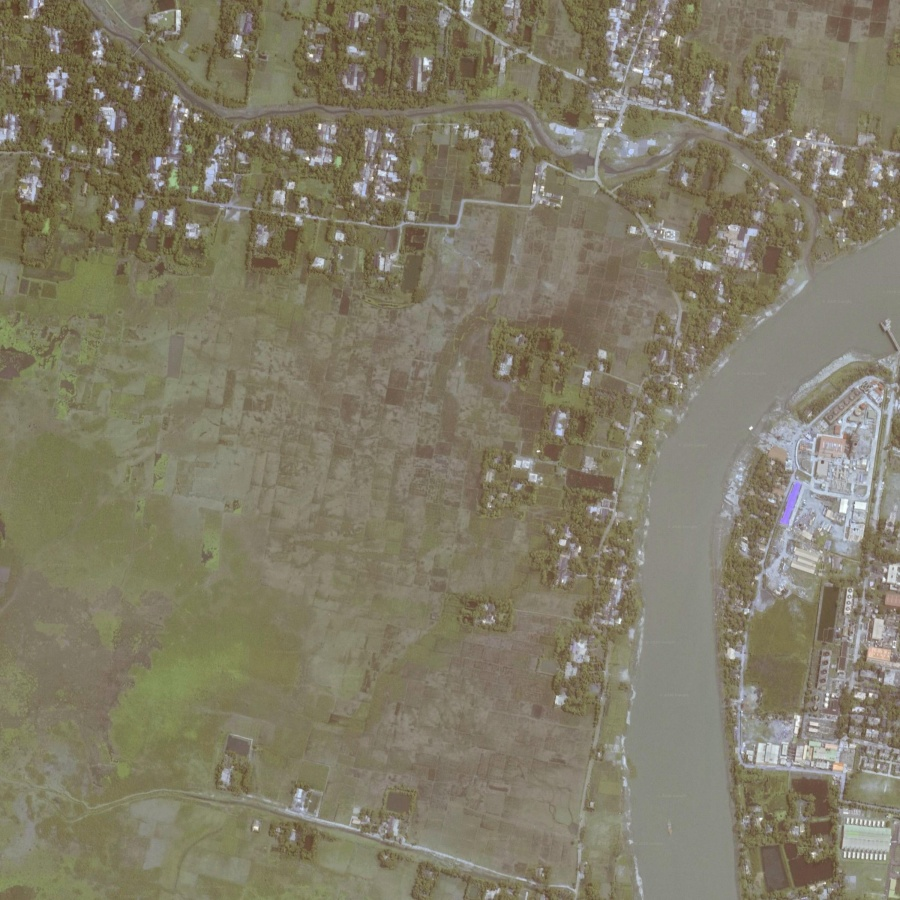PowerPlant: (807, 387, 878, 542)
